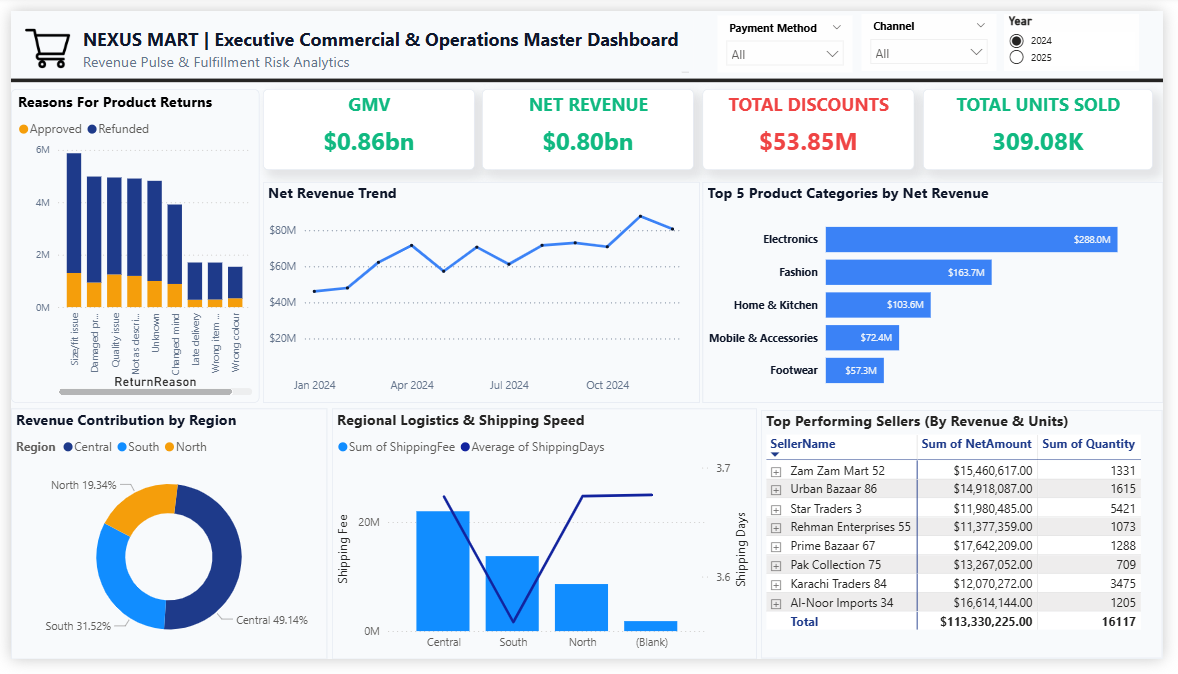

What the dashboard file says about the page in this screenshot:
{"tool":"powerbi","page":{"name":"Page 1","canvas":[1280,720],"ordinal":0},"visuals":[{"type":"textbox","title":"NEXUS MART | Executive Commercial & Operations Master Dashboard","box":[66.7,8.3,691.7,65],"z":0},{"type":"card","title":"GMV","fields":{"Values":["Sum(FactSales.GrossAmount)"]},"box":[280,86,235,90],"z":1000},{"type":"card","title":"NET REVENUE","fields":{"Values":["Sum(FactSales.NetAmount)"]},"box":[523,86,235,90],"z":2000},{"type":"card","title":"TOTAL DISCOUNTS","fields":{"Values":["Sum(FactSales.DiscountAmount)"]},"box":[768,86,235,90],"z":3000},{"type":"card","title":"TOTAL UNITS SOLD","fields":{"Values":["Sum(FactSales.Quantity)"]},"box":[1013,86,255,90],"z":4000},{"type":"lineChart","title":"Net Revenue Trend","fields":{"Y":["Sum(FactSales.NetAmount)"],"Category":["DimDate.FullDate.Variation.Date Hierarchy.Year","DimDate.FullDate.Variation.Date Hierarchy.Month"]},"box":[280,190,485,245],"z":5000},{"type":"clusteredBarChart","title":"Top 5 Product Categories by Net Revenue","fields":{"Category":["DimProduct.Category"],"Y":["Sum(FactSales.NetAmount)"]},"box":[768.3,190,511.7,245],"z":6000},{"type":"donutChart","title":"Revenue Contribution by Region","fields":{"Category":["DimLocation.Region"],"Y":["Sum(FactSales.NetAmount)"]},"box":[0,441.2,351,278.8],"z":7000},{"type":"pivotTable","title":"Top Performing Sellers (By Revenue & Units)","fields":{"Rows":["DimSeller.SellerName","DimSeller.SellerTier"],"Values":["Sum(FactSales.NetAmount)","Sum(FactSales.Quantity)"]},"box":[833.8,443.8,446.2,276.2],"z":8000},{"type":"shape","box":[0,57.8,1280.1,37.5],"z":9000},{"type":"image","box":[5,17.2,71.9,50],"z":10000},{"type":"listSlicer","fields":{"Values":["DimDate.Year"]},"box":[1104,3.3,150,63],"z":11000},{"type":"slicer","fields":{"Values":["FactSales.Channel"]},"box":[945,4,150,63.3],"z":12000},{"type":"slicer","fields":{"Values":["FactSales.PaymentMethod"]},"box":[785,5,150,63.3],"z":13000},{"type":"columnChart","title":"Reasons For Product Returns","fields":{"Category":["FactSales.ReturnReason"],"Y":["Sum(FactSales.ReturnedAmount)"],"Series":["FactSales.ReturnStatus"]},"box":[0,86.7,276,348.3],"z":14000},{"type":"lineClusteredColumnComboChart","title":"Regional Logistics & Shipping Speed","fields":{"Category":["DimLocation.Region"],"Y":["Sum(FactSales.ShippingFee)"],"Y2":["Avg(FactSales.ShippingDays)"]},"box":[356.7,441.7,472,278.3],"z":15000}]}

Visuals, with their boxes in screenshot pixels (x1, y1, x2, y2), scaled from the page's 1280x720 canvas onto the 1178x674 screenshot:
"NEXUS MART | Executive Commercial & Operations Master Dashboard" textbox: select_region(61, 8, 698, 69)
"GMV" card: select_region(258, 81, 474, 165)
"NET REVENUE" card: select_region(481, 81, 698, 165)
"TOTAL DISCOUNTS" card: select_region(707, 81, 923, 165)
"TOTAL UNITS SOLD" card: select_region(932, 81, 1167, 165)
"Net Revenue Trend" lineChart: select_region(258, 178, 704, 407)
"Top 5 Product Categories by Net Revenue" clusteredBarChart: select_region(707, 178, 1177, 407)
"Revenue Contribution by Region" donutChart: select_region(0, 413, 323, 673)
"Top Performing Sellers (By Revenue & Units)" pivotTable: select_region(767, 415, 1177, 673)
shape: select_region(0, 54, 1177, 89)
image: select_region(5, 16, 71, 63)
listSlicer - DimDate.Year: select_region(1016, 3, 1154, 62)
slicer - FactSales.Channel: select_region(870, 4, 1008, 63)
slicer - FactSales.PaymentMethod: select_region(722, 5, 860, 64)
"Reasons For Product Returns" columnChart: select_region(0, 81, 254, 407)
"Regional Logistics & Shipping Speed" lineClusteredColumnComboChart: select_region(328, 413, 763, 673)
